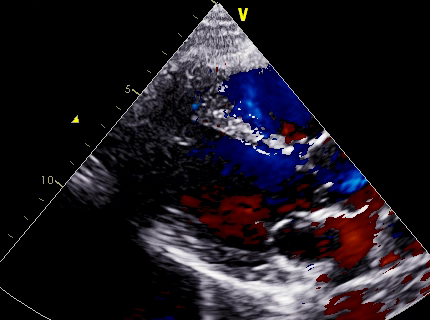AR: (219, 163, 329, 224)
